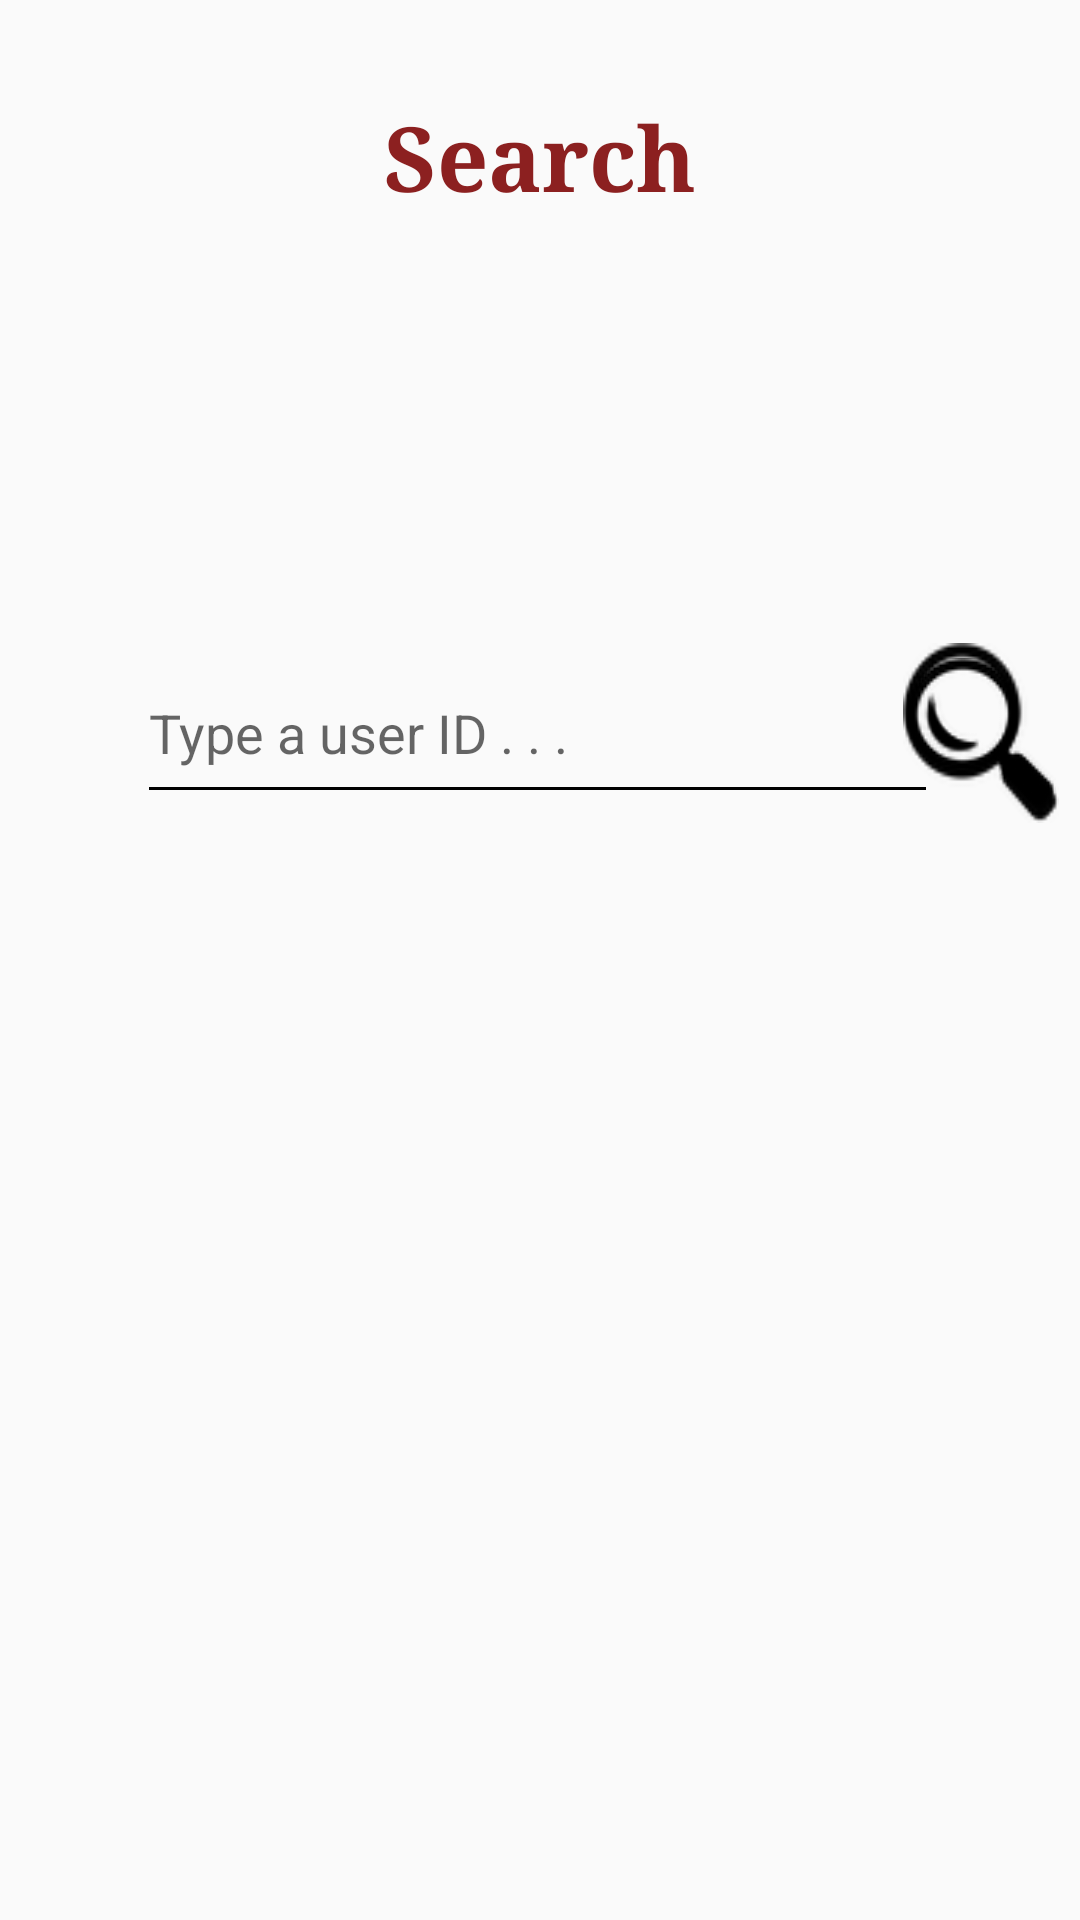

Icons on this 1080×1920 Android screen, each with the point to tap as [x,y]:
search: [980,732]
